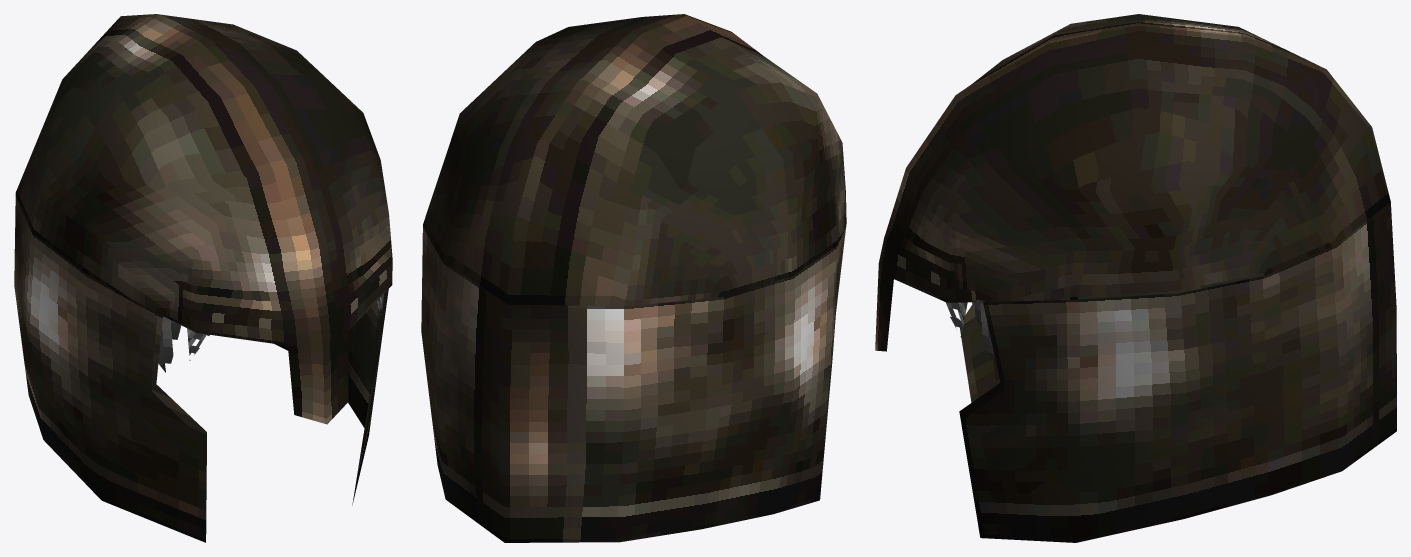
3 views of the same model, side by side, from view 1: azimuth 30°, elevation 25°; view 2: azimuth 150°, elevation 25°; view 3: azimuth 270°, elevation 25° (orthographic). The views are drawn at different scales.
Visible parts, largest first — view 1: mesh00; view 2: mesh00; view 3: mesh00.
Boxes of the visible parts, x1,y1,x2,y2 form: mesh00: (14,14,392,542); mesh00: (421,14,846,542); mesh00: (875,14,1396,542).
Bounding box in the file's own units: 18.18 × 23.71 × 23.7.
